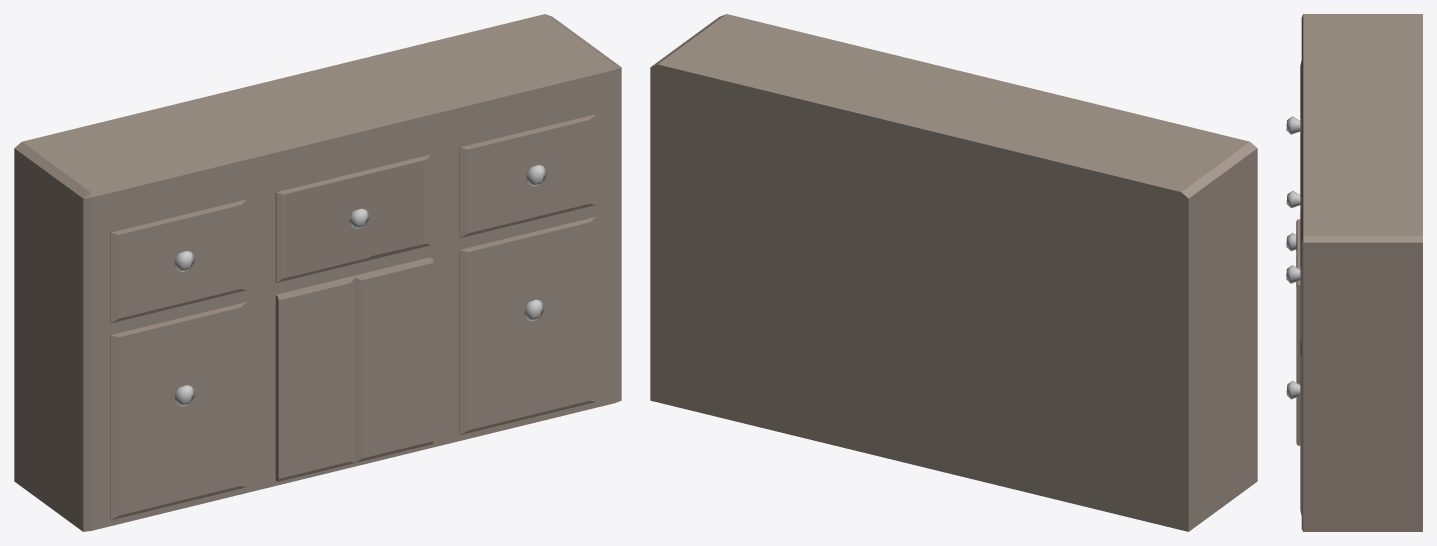
Rendered from prop_Sideboard_Table_2.fbx.
The picture shows the model from 3 angles, left to right: view 1: azimuth 30°, elevation 25°; view 2: azimuth 150°, elevation 25°; view 3: azimuth 270°, elevation 25°; orthographic projection. The views are drawn at different scales.
Parts seen in each view (by area): view 1: Sideboard_Table.001, Console_middle_door.001, Console_big_right_drawer.001, Console_big_left_drawer.001, Console_middle_drawer.001, Console_left_drawer.001, Console_right_drawer.001; view 2: Sideboard_Table.001; view 3: Sideboard_Table.001, Console_middle_door.001, Console_big_right_drawer.001, Console_right_drawer.001, Console_middle_drawer.001, Console_left_drawer.001.
Boxes of the visible parts, bbox=[...] form: Sideboard_Table.001: bbox=[14, 14, 621, 531]; Console_middle_door.001: bbox=[275, 257, 433, 481]; Console_big_right_drawer.001: bbox=[459, 216, 596, 434]; Console_big_left_drawer.001: bbox=[110, 302, 247, 520]; Console_middle_drawer.001: bbox=[275, 154, 431, 282]; Console_left_drawer.001: bbox=[110, 199, 247, 323]; Console_right_drawer.001: bbox=[459, 114, 596, 237]; Sideboard_Table.001: bbox=[650, 14, 1257, 531]; Sideboard_Table.001: bbox=[1301, 14, 1422, 531]; Console_middle_door.001: bbox=[1296, 219, 1300, 445]; Console_big_right_drawer.001: bbox=[1286, 340, 1301, 515]; Console_right_drawer.001: bbox=[1286, 209, 1301, 344]; Console_middle_drawer.001: bbox=[1286, 131, 1301, 212]; Console_left_drawer.001: bbox=[1286, 61, 1301, 134].
Bounding box in the file's own units: 200 × 120 × 50.72.
2 materials, 1 textured.
